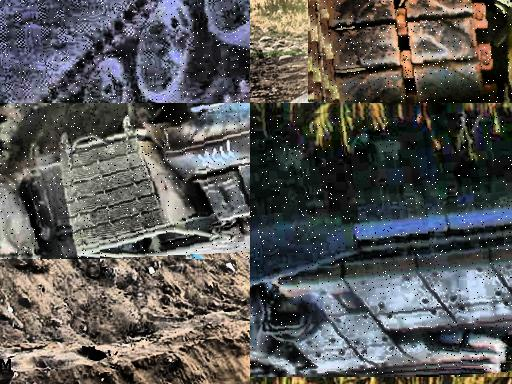tanks: (251, 125, 512, 377), (1, 104, 251, 260), (317, 1, 512, 104), (57, 1, 251, 104)
